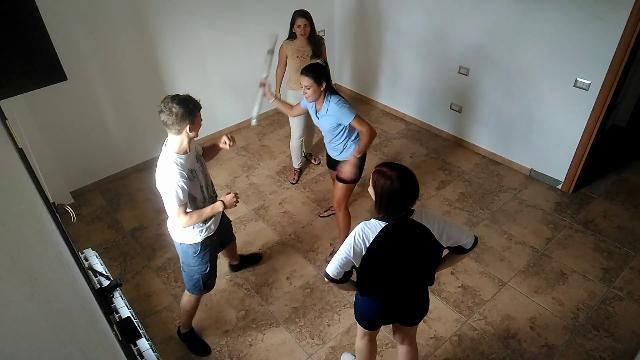non-violence: (322, 158, 480, 360), (276, 6, 334, 186)
violence: (156, 34, 374, 360)
